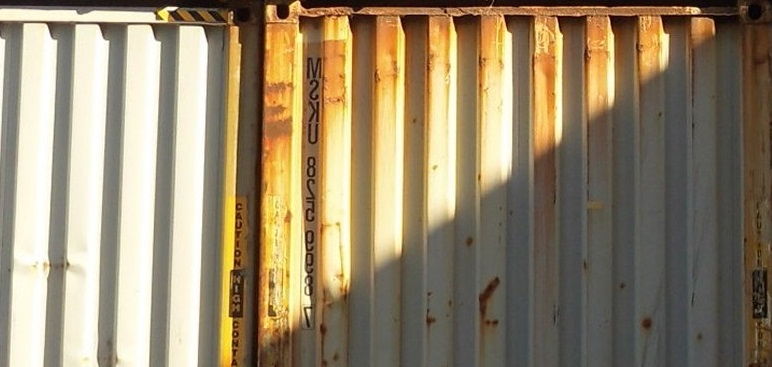container_no_door: (263, 6, 764, 364), (1, 3, 255, 367)
